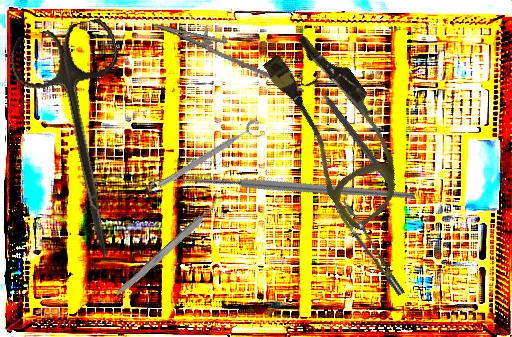Cannula: (244, 25, 429, 232)
Fixation Ring: (299, 70, 403, 194), (155, 116, 268, 198)
Hook Surgical: (145, 67, 418, 317)
Iris Scissors: (6, 16, 162, 268)
Needle Holder: (147, 10, 314, 94)
Scalpel Handle: (110, 202, 220, 303)
Tissue Forceps: (334, 194, 405, 304)
